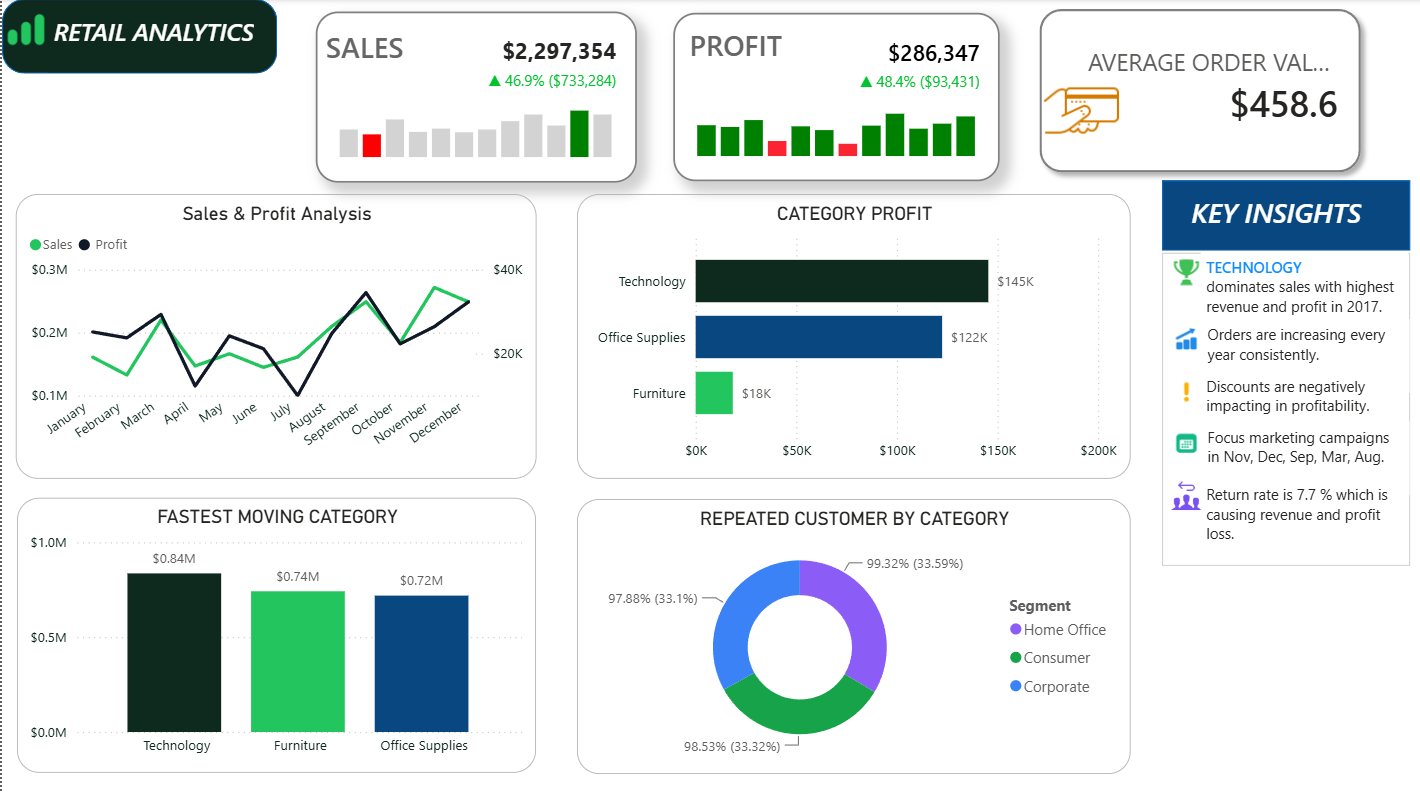

The page's visual inventory and layout, read from the dashboard file:
{"tool":"powerbi","page":{"name":"OVERVIEW'","canvas":[1280,720],"ordinal":0},"visuals":[{"type":"shape","box":[926.8,0,307.7,165.3],"z":0,"group":"g3"},{"type":"group","id":"g1","title":"Group 1","box":[283.4,10.8,289.4,153.7],"z":0},{"type":"clusteredColumnChart","fields":{"Y":["Sum(Book1.Sales)"],"Category":["Book1.MONTH SORT"]},"box":[283.4,10.8,289.4,154.2],"z":0,"group":"g1"},{"type":"shape","box":[619.6,18,179.2,45.8],"z":0,"group":"g2"},{"type":"cardVisual","fields":{"Data":["Book1.AVERAGE ORDER VALUE"]},"box":[950.7,9.2,283.9,138.9],"z":1000,"group":"g3"},{"type":"group","id":"g2","title":"Group 2","box":[605.2,12,295.4,153.7],"z":1000},{"type":"clusteredColumnChart","fields":{"Y":["Sum(Book1.Profit)"],"Category":["Book1.MONTH SORT"]},"box":[605.2,12,294.7,152.2],"z":1000,"group":"g2"},{"type":"shape","box":[292.2,19.1,79,47.7],"z":1000,"group":"g1"},{"type":"group","id":"g3","title":"Group 4","box":[900.6,0,333.8,165.7],"z":2000},{"type":"image","box":[900.6,62,145.5,74.6],"z":2000,"group":"g3"},{"type":"shape","box":[0,0,248.2,67.3],"z":3000},{"type":"image","box":[0,7,41.7,41.7],"z":4000},{"type":"textbox","box":[41.6,9.8,190.8,56.3],"z":5000},{"type":"lineChart","title":"Sales & Profit Analysis ","fields":{"Y":["Sum(Book1.Sales)"],"Y2":["Sum(Book1.Profit)"],"Category":["Book1.Order Date.Variation.Date Hierarchy.Month"]},"box":[12.2,176.1,469.6,256.8],"z":6000},{"type":"clusteredBarChart","title":"CATEGORY PROFIT","fields":{"Category":["Book1.Category"],"Y":["Sum(Book1.Profit)"]},"box":[518.5,176.1,498.9,256.8],"z":7000},{"type":"clusteredColumnChart","title":"FASTEST MOVING CATEGORY ","fields":{"Category":["Book1.Category"],"Y":["Sum(Book1.Sales)"]},"box":[13.5,450,468.3,248.2],"z":8000},{"type":"donutChart","title":"REPEATED CUSTOMER BY CATEGORY ","fields":{"Y":["Book1.Repeat Customer %"],"Category":["Book1.Segment"]},"box":[518.5,451.2,498.9,248.2],"z":9000},{"type":"shape","box":[1045.5,163.9,223.8,63.6],"z":10000},{"type":"textbox","box":[1067.5,171.2,190.8,46.5],"z":11000},{"type":"shape","box":[1045.5,228.7,223.8,282.5],"z":12000},{"type":"image","box":[1044.3,232.3,46.5,28.1],"z":13000},{"type":"textbox","box":[1081,227.4,187.1,66],"z":13001},{"type":"image","box":[1044.3,293.5,46.5,28.1],"z":13002},{"type":"textbox","box":[1082.2,288.6,187.1,66],"z":13003},{"type":"image","box":[1044.3,339.9,46.5,28.1],"z":13004},{"type":"textbox","box":[1081,335.1,187.1,66],"z":13005},{"type":"image","box":[1044.3,386.4,46.5,28.1],"z":13006},{"type":"textbox","box":[1082.2,381.5,187.1,66],"z":13007},{"type":"image","box":[1044.3,432.9,46.5,28.1],"z":13008},{"type":"textbox","box":[1081,432.9,187.1,66],"z":13009}]}

Visuals, with their boxes in screenshot pixels (x1, y1, x2, y2), scaled from the page's 1280x720 canvas onto the 1420x792 screenshot:
shape: <bbox>1028, 0, 1370, 182</bbox>
"Group 1" group: <bbox>314, 12, 635, 181</bbox>
clusteredColumnChart - Sum(Book1.Sales) x Book1.MONTH SORT: <bbox>314, 12, 635, 182</bbox>
shape: <bbox>687, 20, 886, 70</bbox>
cardVisual - Book1.AVERAGE ORDER VALUE: <bbox>1055, 10, 1370, 163</bbox>
"Group 2" group: <bbox>671, 13, 999, 182</bbox>
clusteredColumnChart - Sum(Book1.Profit) x Book1.MONTH SORT: <bbox>671, 13, 998, 181</bbox>
shape: <bbox>324, 21, 412, 73</bbox>
"Group 4" group: <bbox>999, 0, 1369, 182</bbox>
image: <bbox>999, 68, 1161, 150</bbox>
shape: <bbox>0, 0, 275, 74</bbox>
image: <bbox>0, 8, 46, 54</bbox>
textbox: <bbox>46, 11, 258, 73</bbox>
"Sales & Profit Analysis " lineChart: <bbox>14, 194, 534, 476</bbox>
"CATEGORY PROFIT" clusteredBarChart: <bbox>575, 194, 1129, 476</bbox>
"FASTEST MOVING CATEGORY " clusteredColumnChart: <bbox>15, 495, 534, 768</bbox>
"REPEATED CUSTOMER BY CATEGORY " donutChart: <bbox>575, 496, 1129, 769</bbox>
shape: <bbox>1160, 180, 1408, 250</bbox>
textbox: <bbox>1184, 188, 1396, 239</bbox>
shape: <bbox>1160, 252, 1408, 562</bbox>
image: <bbox>1159, 256, 1210, 286</bbox>
textbox: <bbox>1199, 250, 1407, 323</bbox>
image: <bbox>1159, 323, 1210, 354</bbox>
textbox: <bbox>1201, 317, 1408, 390</bbox>
image: <bbox>1159, 374, 1210, 405</bbox>
textbox: <bbox>1199, 369, 1407, 441</bbox>
image: <bbox>1159, 425, 1210, 456</bbox>
textbox: <bbox>1201, 420, 1408, 492</bbox>
image: <bbox>1159, 476, 1210, 507</bbox>
textbox: <bbox>1199, 476, 1407, 549</bbox>
